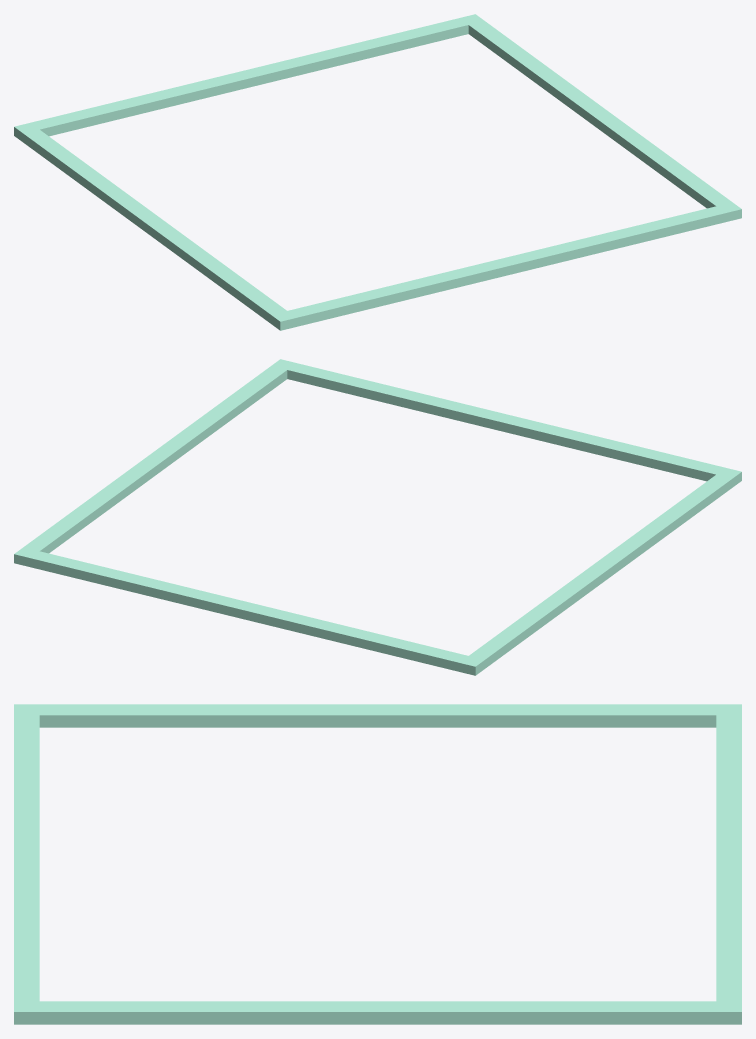
The model's file is frame-skin-13.glb.
3 renders of one model, top to bottom at view 1: azimuth 30°, elevation 25°; view 2: azimuth 150°, elevation 25°; view 3: azimuth 270°, elevation 25°, orthographic. The views are drawn at different scales.
Visible parts, largest first — view 1: frame-skin-13; view 2: frame-skin-13; view 3: frame-skin-13.
Part boxes in pixels (box(x1,y1,x2,y2)): frame-skin-13: box(14, 14, 741, 330); frame-skin-13: box(14, 359, 741, 675); frame-skin-13: box(14, 704, 741, 1024).
Bounding box in the file's own units: 17 × 0.32 × 17.
1 material, 1 textured.
